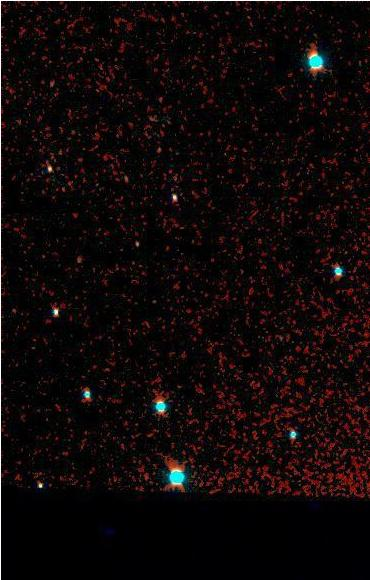star: (143, 82, 173, 112)
